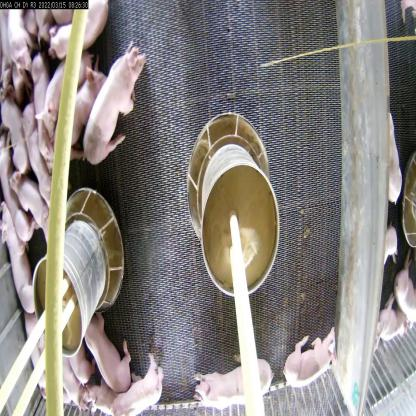Pig: (83, 35, 146, 166), (84, 302, 135, 394), (0, 201, 40, 317), (60, 58, 107, 150), (192, 359, 272, 413), (102, 354, 166, 416), (20, 98, 54, 211), (282, 327, 341, 390), (31, 49, 58, 174), (0, 84, 32, 181), (8, 174, 48, 238), (36, 54, 65, 136), (27, 318, 53, 402), (378, 294, 411, 343), (79, 376, 115, 416)
